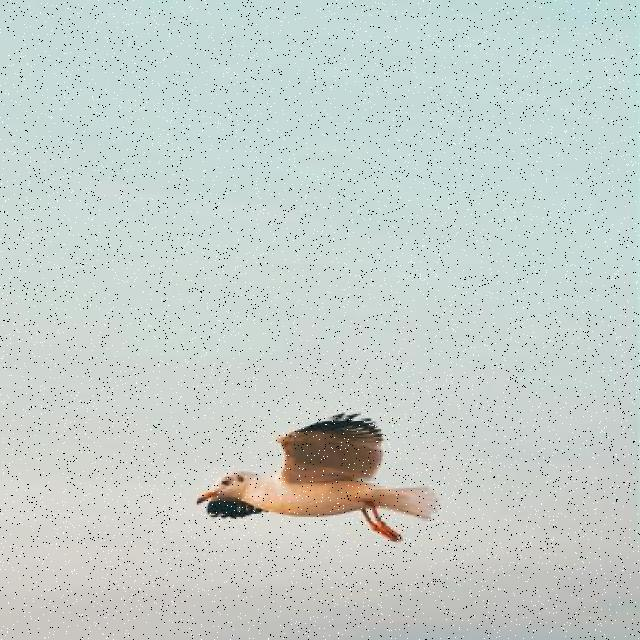bird: (196, 413, 439, 544)
